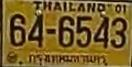3: (110, 16, 126, 47)
4: (27, 13, 42, 46), (93, 15, 108, 47)
5: (76, 15, 91, 47)
6: (9, 13, 25, 45), (58, 15, 73, 47)
BKK: (26, 52, 107, 67)
